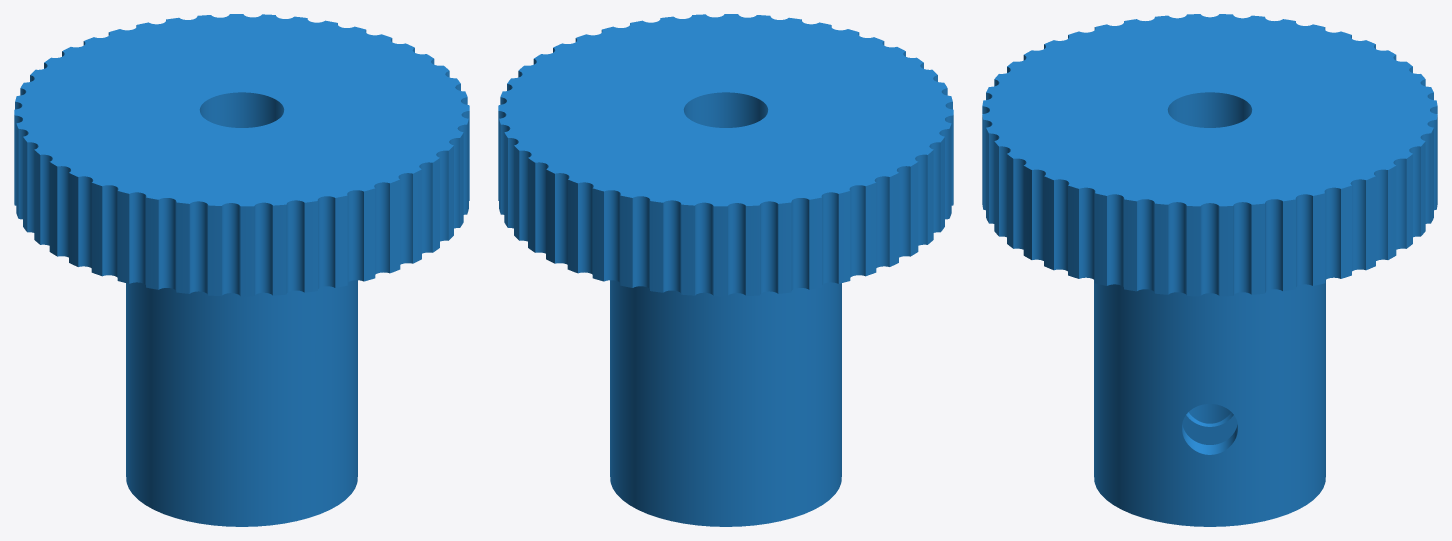
The model's file is elev_polia_motora.glb.
3 views of the same model, side by side, from view 1: azimuth 30°, elevation 25°; view 2: azimuth 150°, elevation 25°; view 3: azimuth 270°, elevation 25° (orthographic).
Parts seen in each view (by area): view 1: elev_polia_motora; view 2: elev_polia_motora; view 3: elev_polia_motora.
Part boxes in pixels (box(x1,y1,x2,y2)): elev_polia_motora: box(14, 14, 469, 526); elev_polia_motora: box(498, 14, 953, 526); elev_polia_motora: box(982, 14, 1437, 526).
Bounding box in the file's own units: 27.48 × 24.5 × 27.48.
